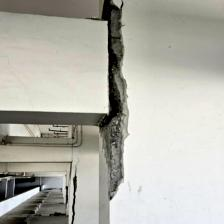High: (67, 1, 135, 224)
